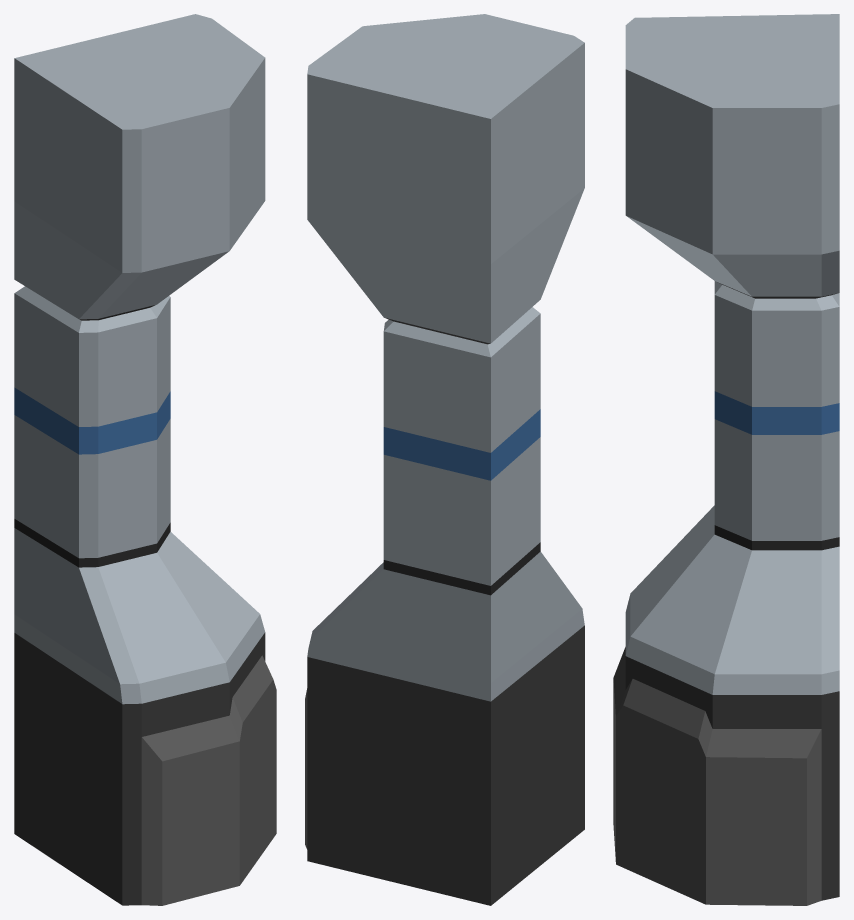
The model's file is SM_Bld_Wall_Corner_Pillar_05.fbx.
3 views of the same model, side by side, from view 1: azimuth 30°, elevation 25°; view 2: azimuth 150°, elevation 25°; view 3: azimuth 270°, elevation 25° (orthographic). The views are drawn at different scales.
Parts seen in each view (by area): view 1: SM_Bld_Wall_Corner_Pillar_05; view 2: SM_Bld_Wall_Corner_Pillar_05; view 3: SM_Bld_Wall_Corner_Pillar_05.
Boxes of the visible parts, x1=… form: SM_Bld_Wall_Corner_Pillar_05: x1=14, y1=14, x2=276, y2=905; SM_Bld_Wall_Corner_Pillar_05: x1=305, y1=14, x2=584, y2=905; SM_Bld_Wall_Corner_Pillar_05: x1=613, y1=14, x2=839, y2=905.
Bounding box in the file's own units: 137 × 509 × 132.
Materials: 1 (1 with a texture image).
